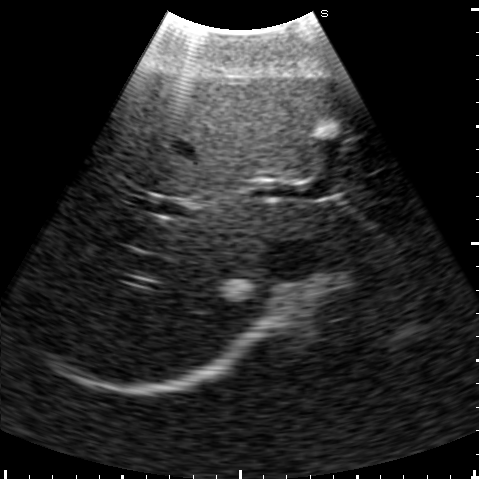IVC: (265, 241, 318, 283)
S1: (311, 205, 372, 260)
S2: (342, 195, 436, 240)
S3: (323, 81, 410, 203)
S4: (95, 74, 330, 203)
Tumor: (221, 280, 252, 302), (313, 120, 339, 139)
